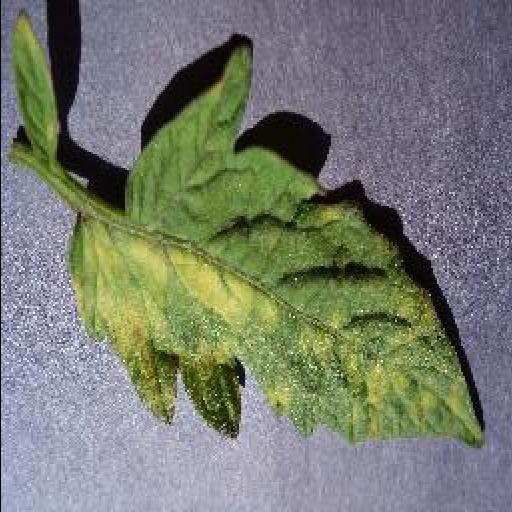disease_tomato: (66, 46, 484, 448)
